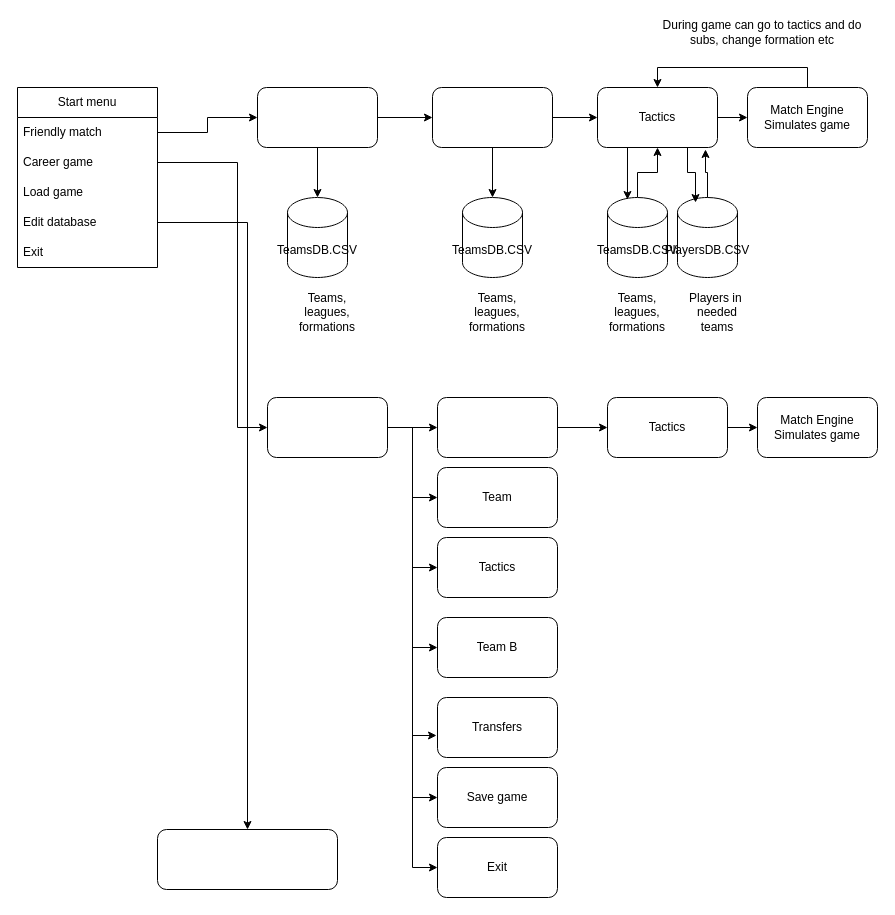
Some shapes in this 895 by 915 pixel diagram are drawn without their labels. Here are the shapes that lost their labels. From the top down, the box of each, then its label:
(256, 86, 378, 148): Player controlled team selection
(432, 86, 552, 148): Opponent selection
(266, 396, 388, 458): Career game main
(436, 396, 558, 458): Game day
(156, 828, 338, 890): Database main Functions = Search bar, search both players and teams
